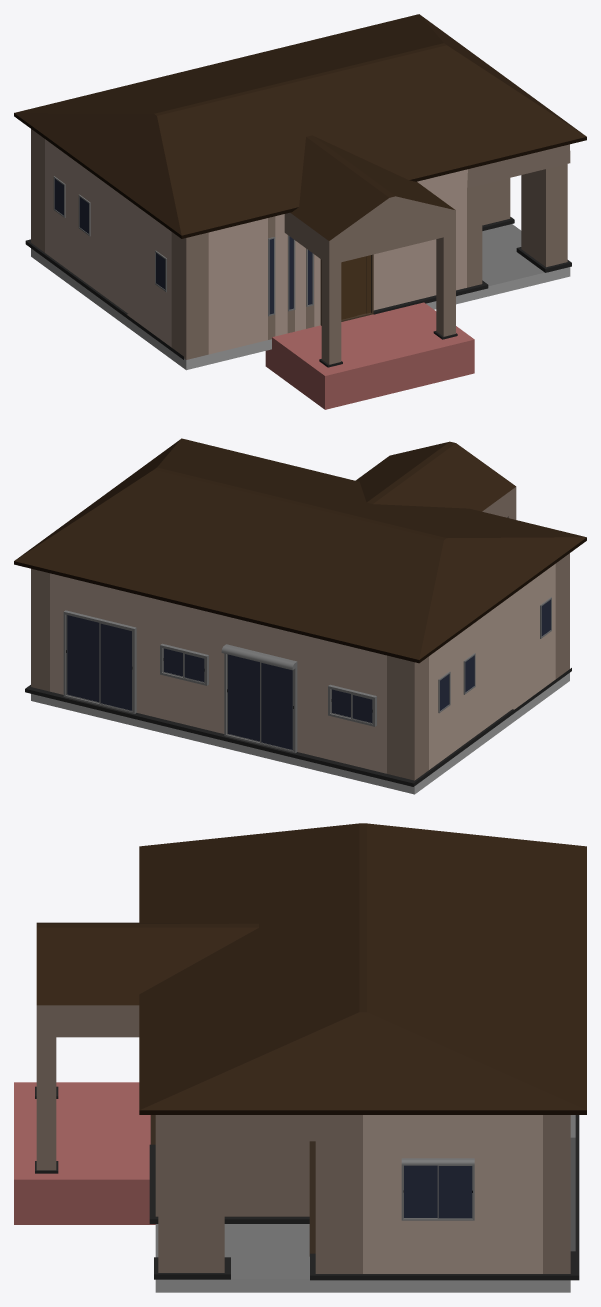
The model's file is house10_middle.fbx.
3 views of the same model, one above another, from view 1: azimuth 30°, elevation 25°; view 2: azimuth 150°, elevation 25°; view 3: azimuth 270°, elevation 25° (orthographic). The views are drawn at different scales.
Parts seen in each view (by area): view 1: polySurface428; view 2: polySurface428; view 3: polySurface428.
Boxes of the visible parts, bbox=[...] form: polySurface428: bbox=[14, 14, 586, 409]; polySurface428: bbox=[14, 438, 586, 794]; polySurface428: bbox=[14, 823, 586, 1292].
Size of the model in its own units: 11.14 by 5.48 by 10.22.
